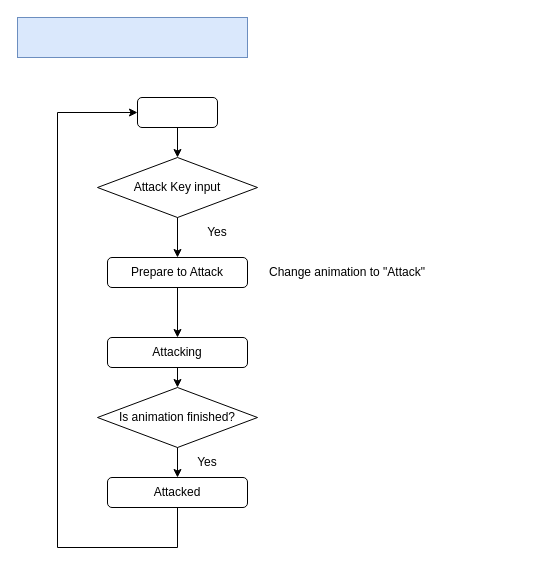
This 535x573 diagram has some shape labels left out. The centre of each missing label's shape, as x and y in pixels:
"Flowchart of Attack FSM" goes at (132,37).
"Idle" goes at (177,112).
